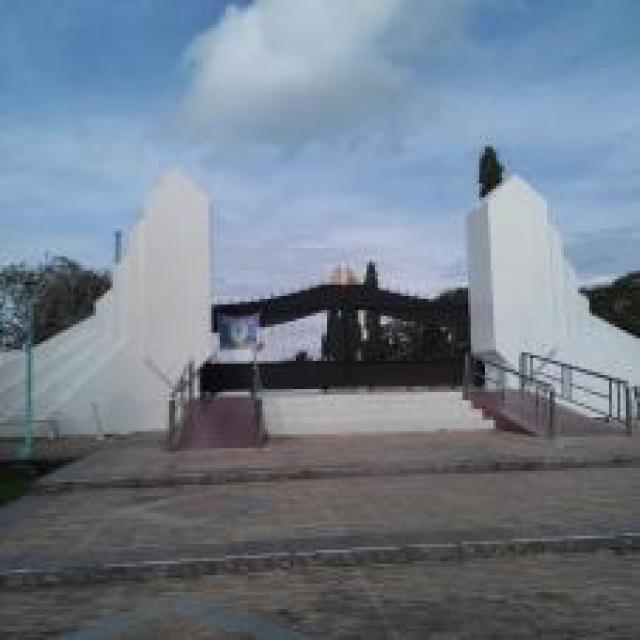upstair: (266, 393, 503, 441)
